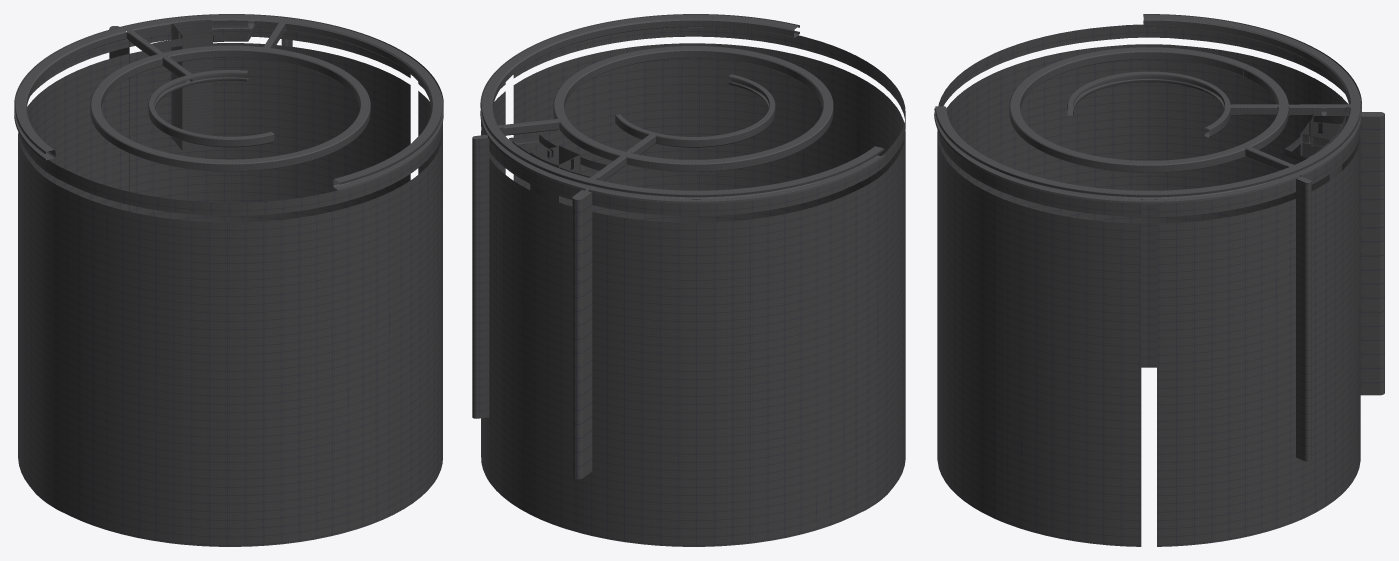
Rendered from stage_2F.fbx.
The picture shows the model from 3 angles, left to right: view 1: azimuth 30°, elevation 25°; view 2: azimuth 150°, elevation 25°; view 3: azimuth 270°, elevation 25°; orthographic projection.
Parts seen in each view (by area): view 1: polySurface134; view 2: polySurface134; view 3: polySurface134.
Boxes of the visible parts, <box> form: polySurface134: <box>14,14,443,546</box>; polySurface134: <box>472,14,905,546</box>; polySurface134: <box>934,14,1384,546</box>.
Size of the model in its own units: 13745 by 12447 by 14439.
1 material, 1 textured.
